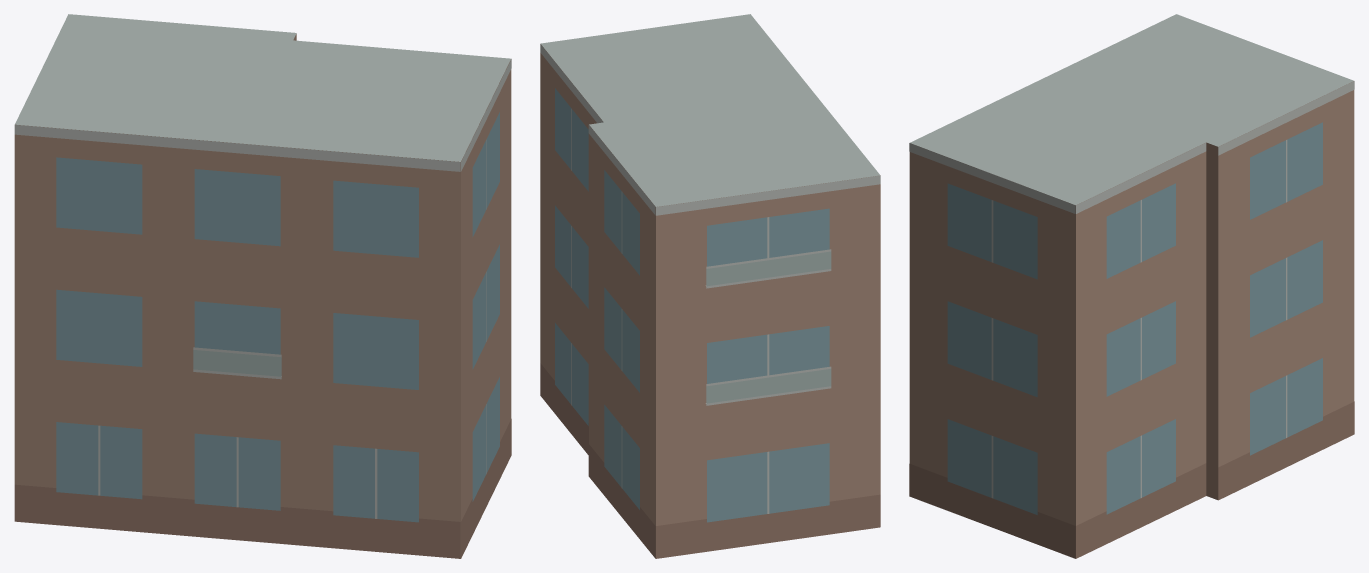
File: survey-upis-32493126.glb
3 views of the same model, side by side, from view 1: azimuth 30°, elevation 25°; view 2: azimuth 150°, elevation 25°; view 3: azimuth 270°, elevation 25° (orthographic). The views are drawn at different scales.
Visible parts, largest first — view 1: survey-upis-32493126.tmp; view 2: survey-upis-32493126.tmp; view 3: survey-upis-32493126.tmp.
Boxes of the visible parts, x1,y1,x2,y2 form: survey-upis-32493126.tmp: (14,14,511,558); survey-upis-32493126.tmp: (540,14,880,558); survey-upis-32493126.tmp: (909,14,1354,558).
Size of the model in its own units: 11.23 by 9.67 by 11.03.
